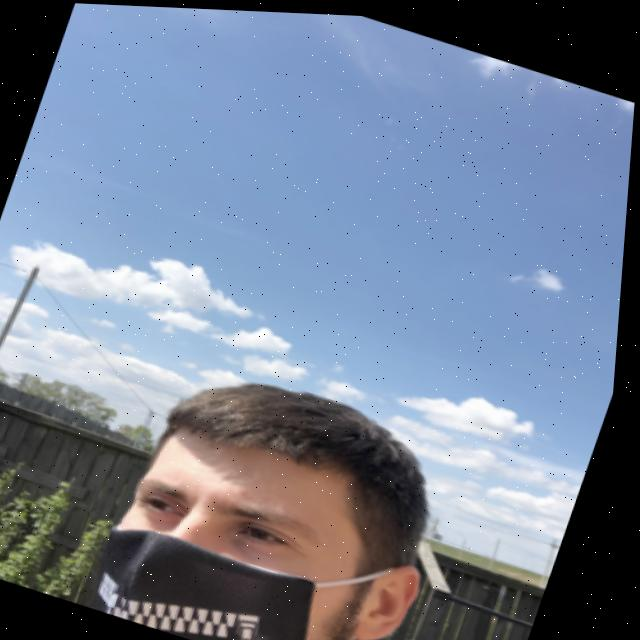Mask: (87, 464, 438, 640)
